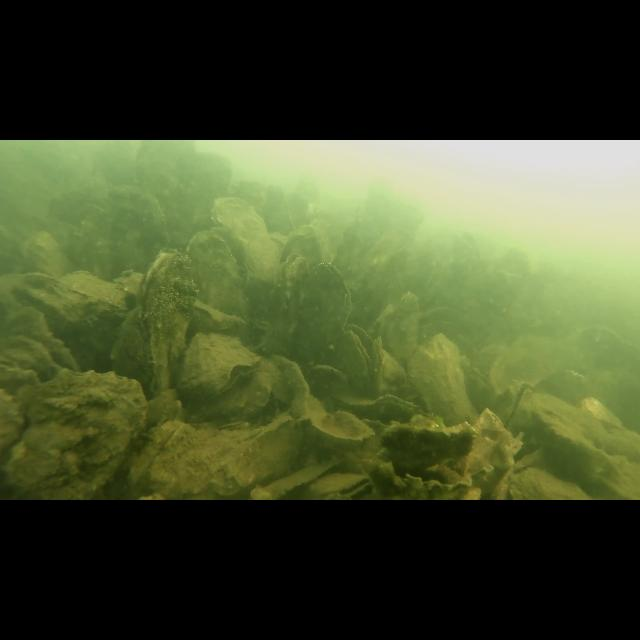Oyster-Closed: (0, 368, 148, 500), (408, 332, 478, 426), (24, 269, 130, 329), (214, 197, 280, 285), (130, 420, 193, 490), (383, 290, 421, 364), (310, 409, 374, 448), (372, 394, 432, 426)
Oyster-Open: (138, 249, 196, 391), (182, 226, 254, 330), (380, 422, 472, 494), (178, 333, 260, 401), (302, 260, 348, 368), (271, 252, 307, 356), (342, 322, 383, 394), (498, 379, 540, 435), (190, 294, 246, 330), (305, 474, 373, 500), (378, 344, 406, 394)
